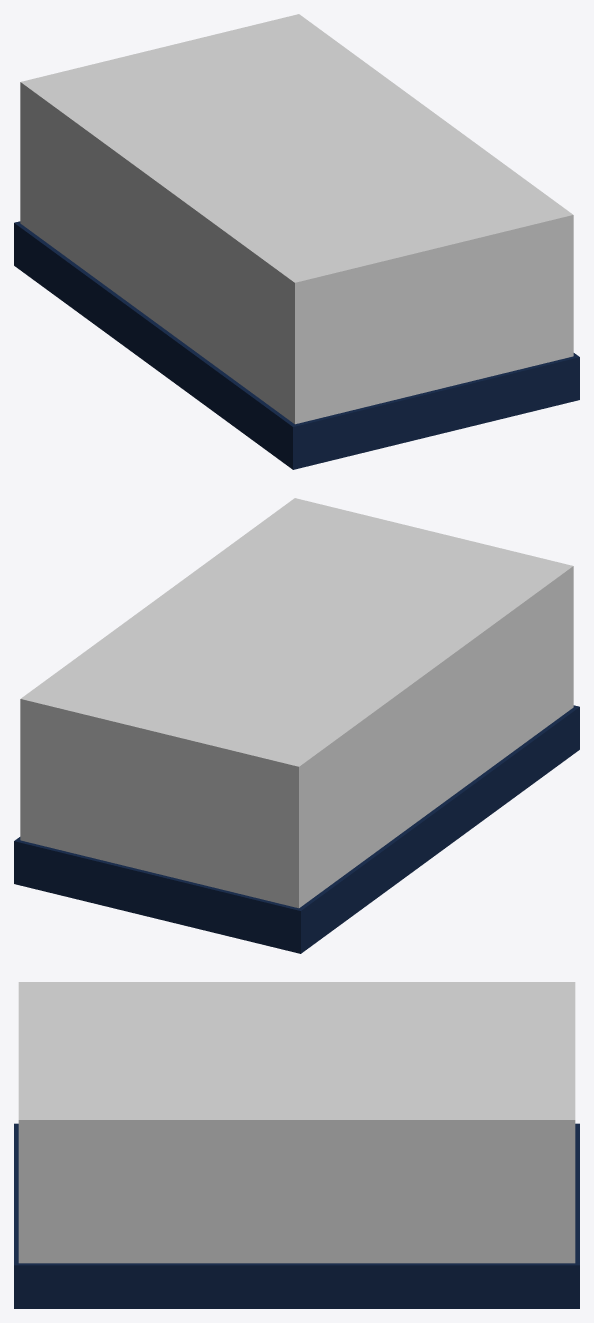
3 renders of one model, top to bottom at view 1: azimuth 30°, elevation 25°; view 2: azimuth 150°, elevation 25°; view 3: azimuth 270°, elevation 25°, orthographic.
Parts seen in each view (by area): view 1: socket_foot_l.attachment; view 2: socket_foot_l.attachment; view 3: socket_foot_l.attachment.
Boxes of the visible parts, box(x1,y1,x2,y2) form: socket_foot_l.attachment: box(14, 14, 579, 469); socket_foot_l.attachment: box(14, 498, 579, 953); socket_foot_l.attachment: box(14, 982, 579, 1308).
Size of the model in its own units: 0.35 by 0.215 by 0.59.
